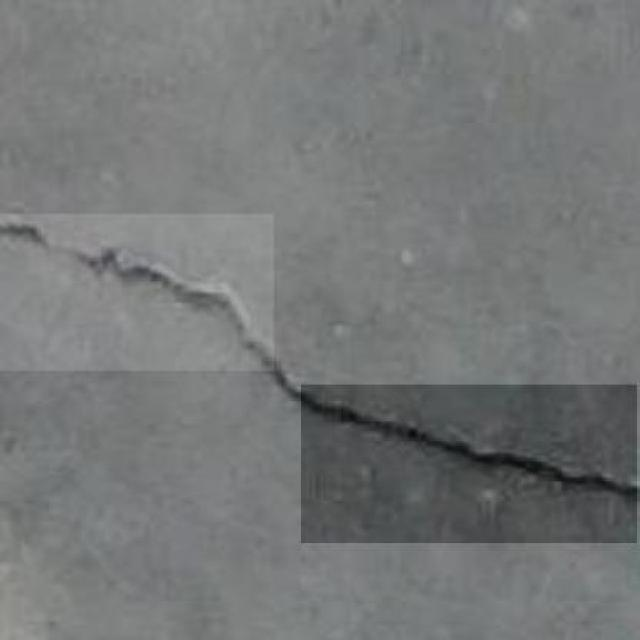Crack: (5, 202, 278, 371), (288, 362, 640, 479)
